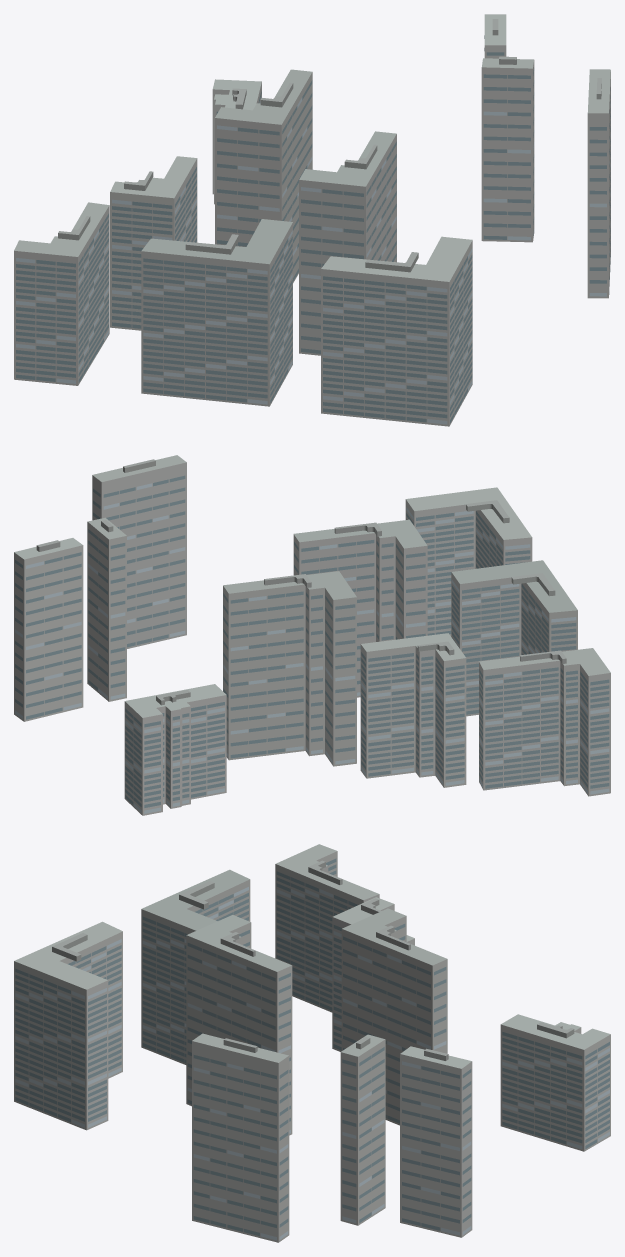
Rendered from apt-a10025133.glb.
3 renders of one model, top to bottom at view 1: azimuth 30°, elevation 25°; view 2: azimuth 150°, elevation 25°; view 3: azimuth 270°, elevation 25°, orthographic. The views are drawn at different scales.
Visible parts, largest first — view 1: apt-a10025133; view 2: apt-a10025133; view 3: apt-a10025133.
Boxes of the visible parts, bbox=[...] form: apt-a10025133: bbox=[14, 14, 610, 426]; apt-a10025133: bbox=[14, 455, 610, 815]; apt-a10025133: bbox=[14, 844, 610, 1242].
Size of the model in its own units: 269 by 85 by 249.
